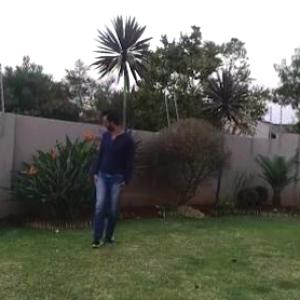follow: (84, 99, 137, 264)
